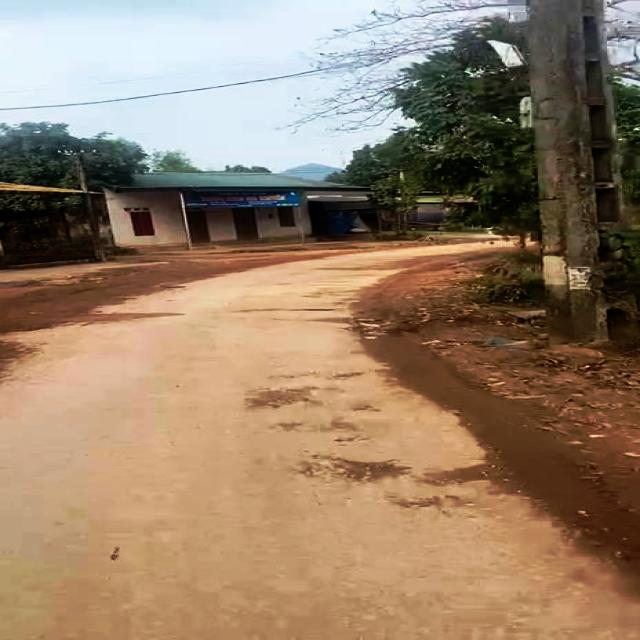pothole: (302, 451, 407, 486), (421, 453, 509, 488), (244, 386, 323, 410)
